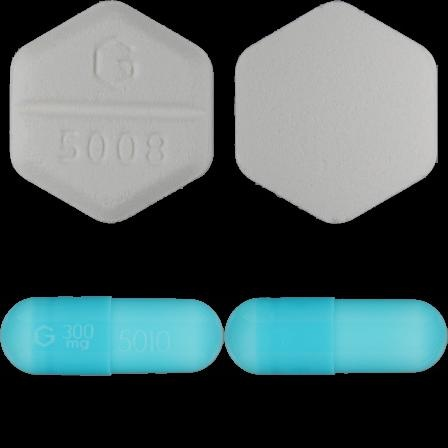59762-5008: (0, 0, 224, 224)
